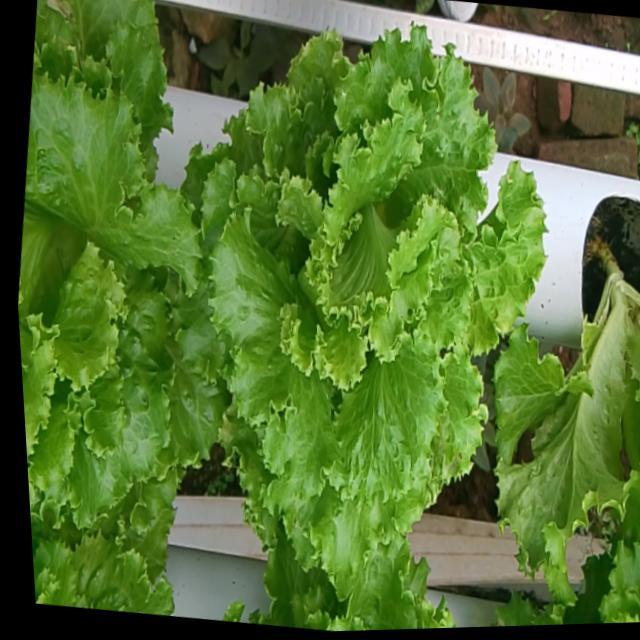Mature: (193, 9, 538, 560), (18, 53, 217, 515)
